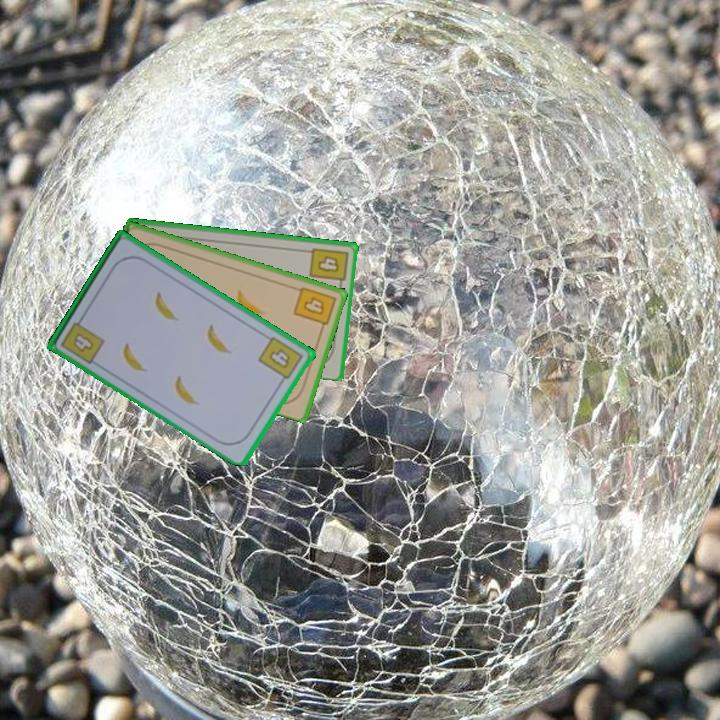4b: (255, 333, 307, 387), (290, 283, 339, 334), (306, 244, 351, 290), (70, 329, 97, 355)
